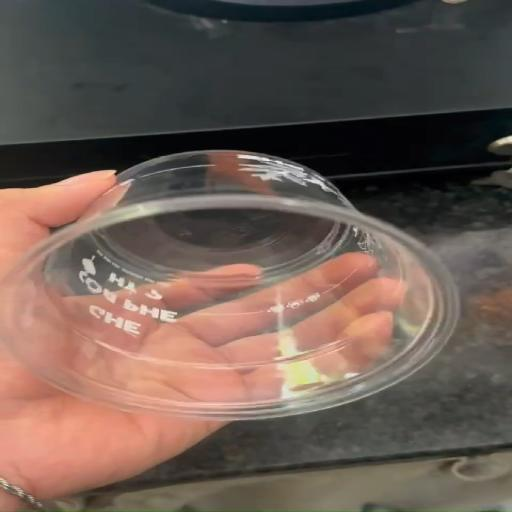ly_nhua: (0, 150, 457, 420)
